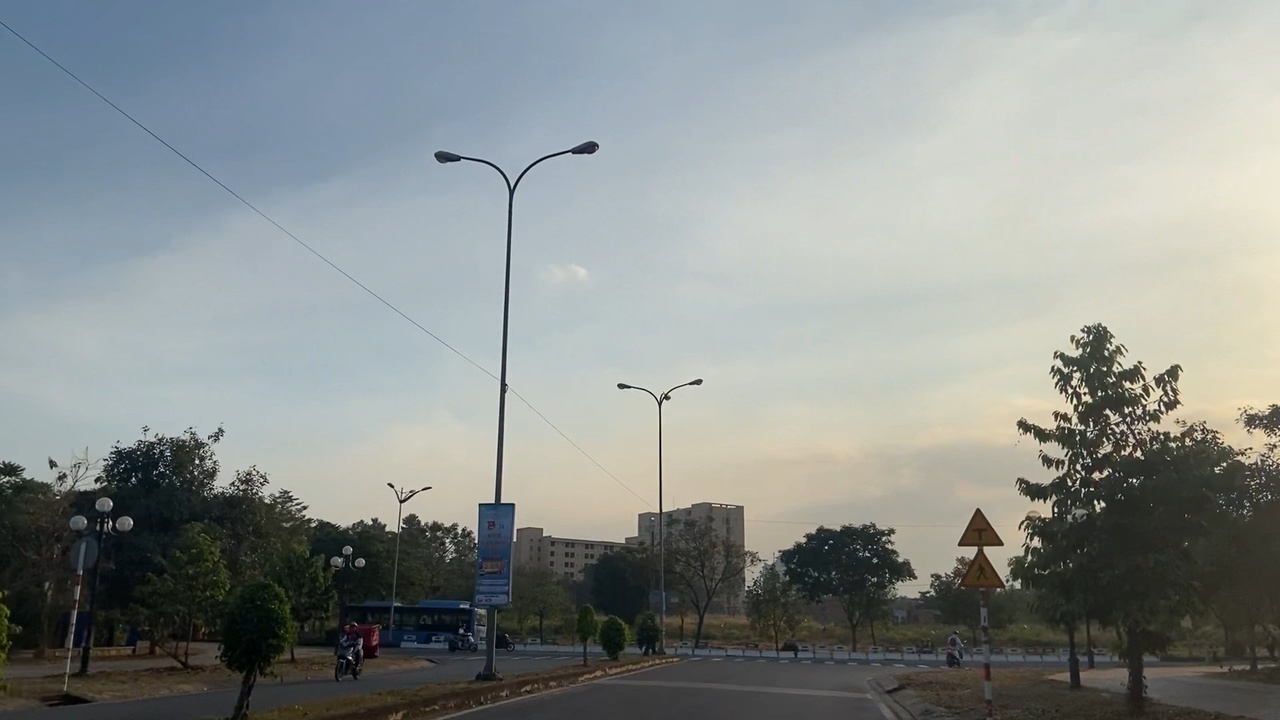can_than_nguoi_qua_duong: (958, 547, 1008, 589)
giao_nhau_T: (955, 506, 1007, 549)
